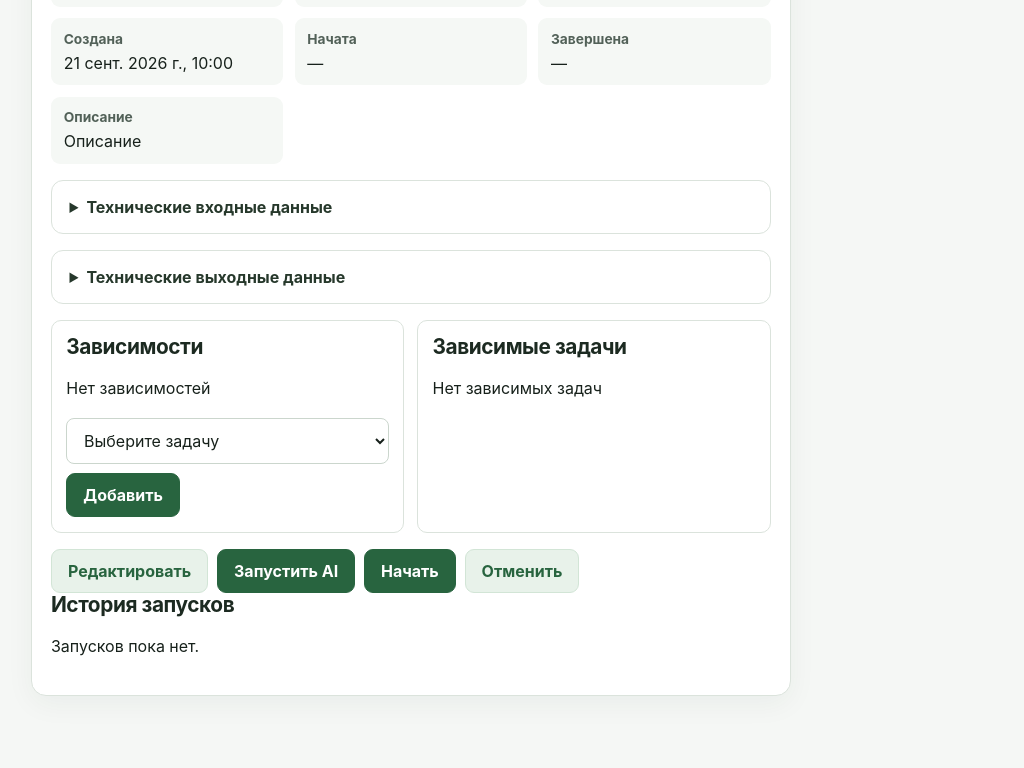
Test: Tasks UI › runs a READY MANUAL task and shows queued history
(page scrolled)
Click the button "Запустить AI": click(286, 571) [217,549,355,593]
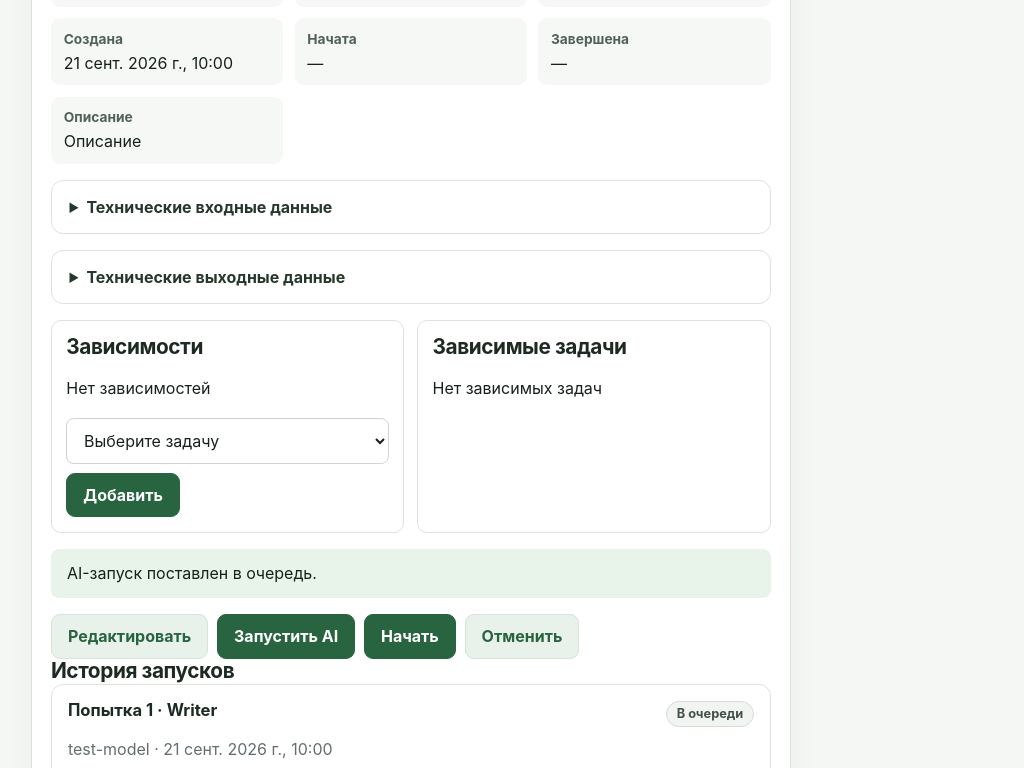
Result: the text "AI-запуск поставлен в очередь." is shown at [51,549,770,598]
Result: the text "test-model" is shown at [68,738,150,758]
